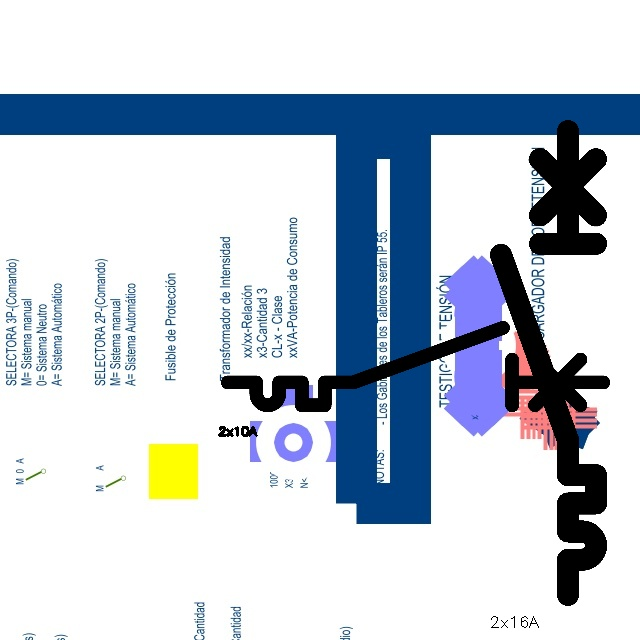interruptor_termomagnetico: (489, 119, 608, 607), (218, 318, 613, 415)
